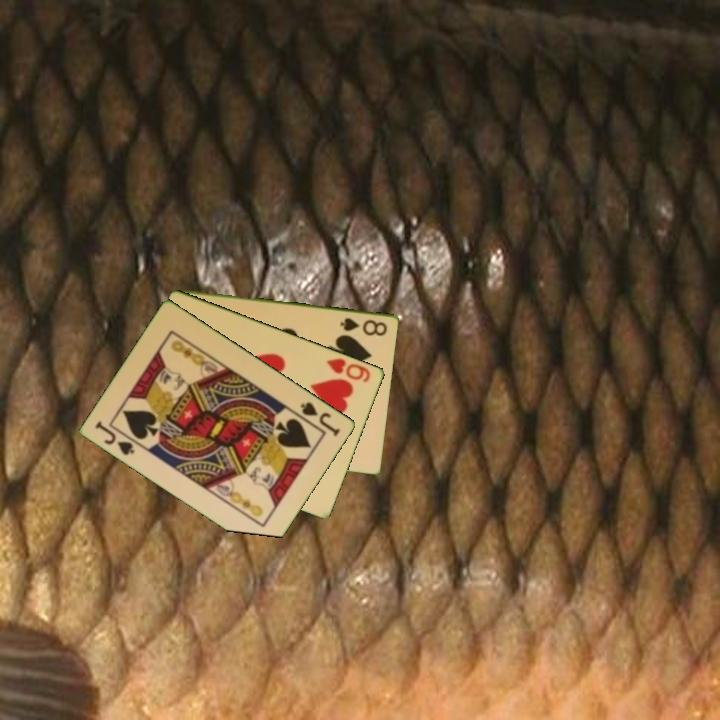6h: (323, 354, 374, 385)
8s: (337, 314, 390, 339)
Js: (297, 398, 343, 439), (92, 417, 138, 458)
